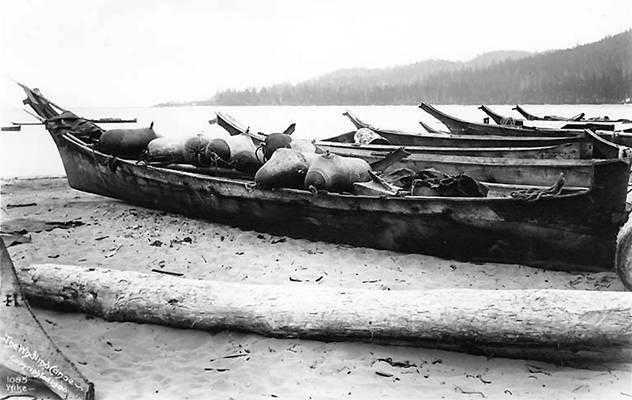kayak: (15, 108, 627, 272), (332, 113, 589, 155), (415, 102, 585, 139), (503, 104, 606, 126), (584, 128, 632, 160), (615, 207, 632, 291)
